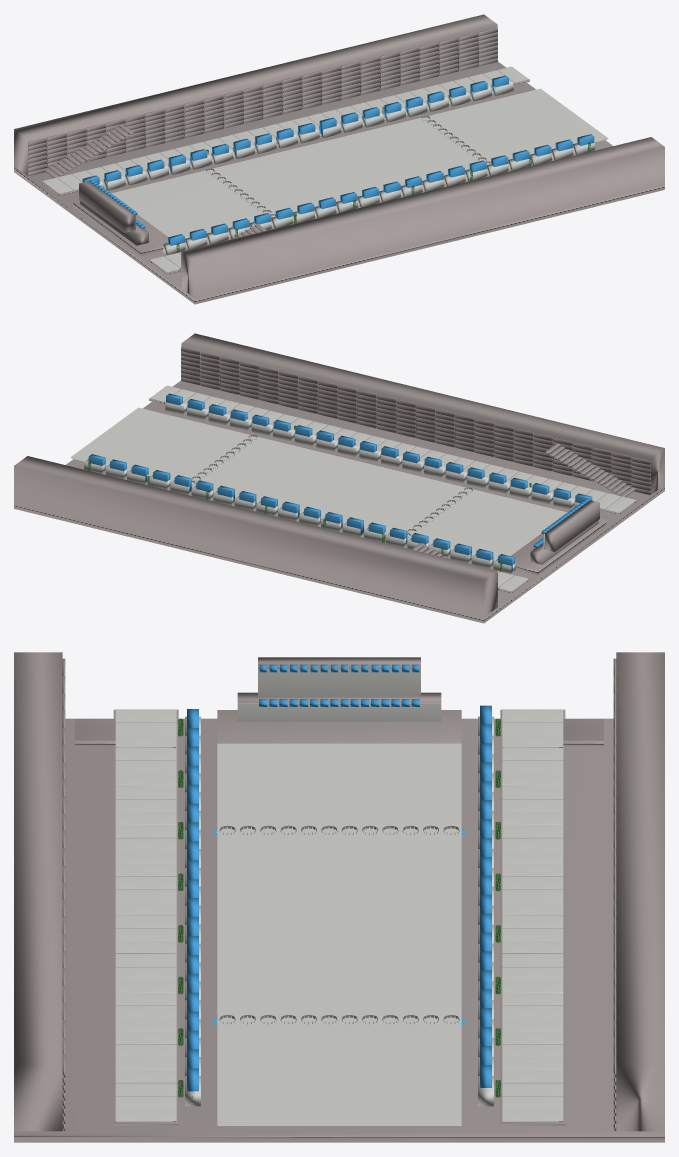
3 views of the same model, one above another, from view 1: azimuth 30°, elevation 25°; view 2: azimuth 150°, elevation 25°; view 3: azimuth 270°, elevation 25° (orthographic). The views are drawn at different scales.
Parts seen in each view (by area): view 1: cheonggye_granite_embankment, cheonggye_water_stream, cheonggye_riparian_flora, cheonggye_promenade; view 2: cheonggye_granite_embankment, cheonggye_water_stream, cheonggye_riparian_flora, cheonggye_promenade; view 3: cheonggye_granite_embankment, cheonggye_water_stream, cheonggye_promenade, cheonggye_riparian_flora.
Boxes of the visible parts, x1,y1,x2,y2 form: cheonggye_granite_embankment: [14, 14, 664, 304]; cheonggye_water_stream: [89, 88, 608, 248]; cheonggye_riparian_flora: [82, 75, 594, 255]; cheonggye_promenade: [41, 66, 590, 274]; cheonggye_granite_embankment: [14, 333, 664, 623]; cheonggye_water_stream: [70, 407, 589, 567]; cheonggye_riparian_flora: [84, 393, 592, 574]; cheonggye_promenade: [88, 385, 637, 593]; cheonggye_granite_embankment: [14, 652, 664, 1142]; cheonggye_water_stream: [213, 664, 465, 1125]; cheonggye_promenade: [75, 709, 603, 1125]; cheonggye_riparian_flora: [185, 705, 493, 1106].
Bounding box in the file's own units: 48.3 × 4.2 × 32.
4 materials, 4 textured.
